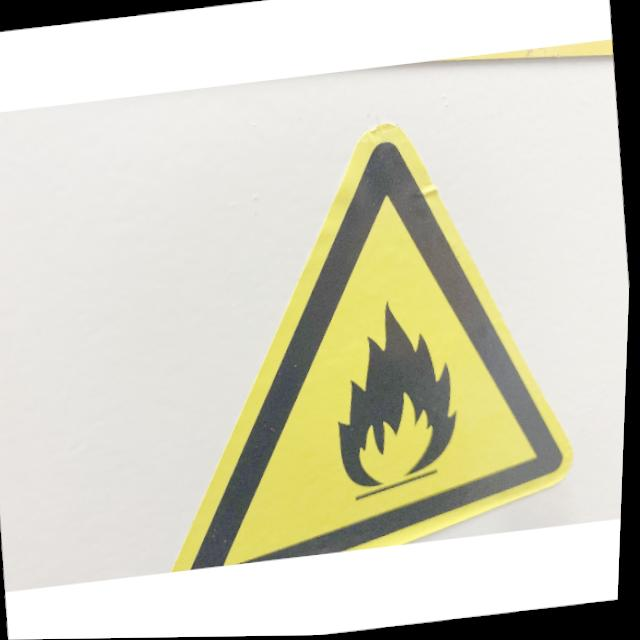fire hazard: (129, 104, 592, 573)
